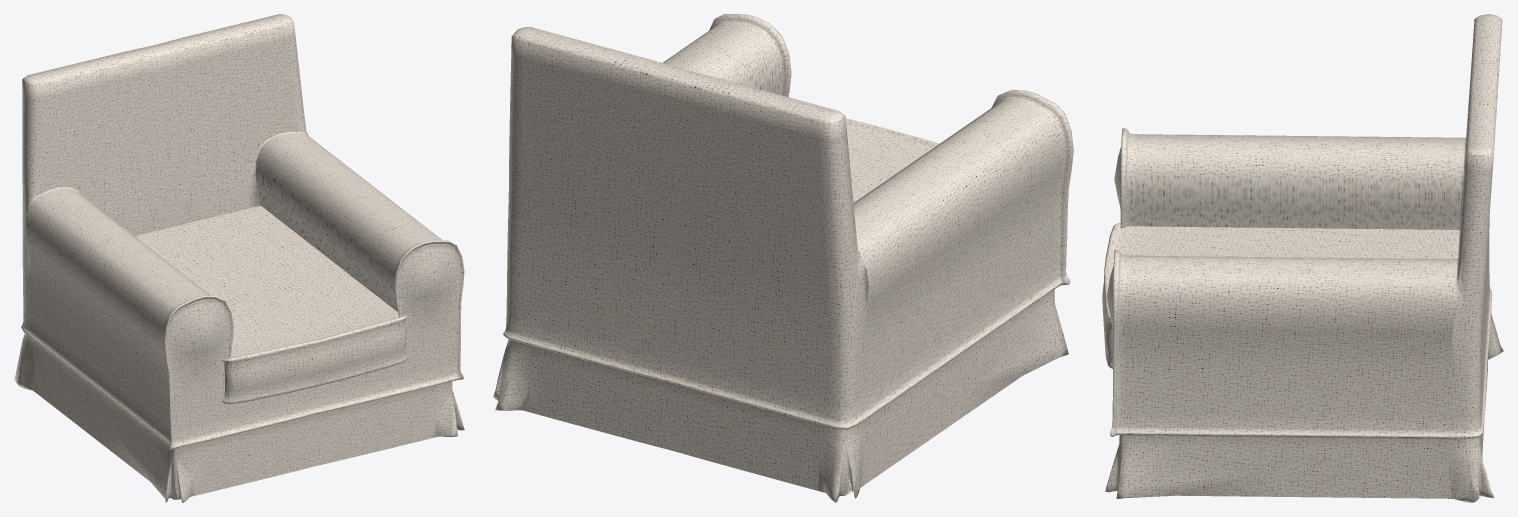
The model's file is IKEA-Ektorp_Armchair_Vallsta-3D.FBX.
The picture shows the model from 3 angles, left to right: view 1: azimuth 30°, elevation 25°; view 2: azimuth 150°, elevation 25°; view 3: azimuth 270°, elevation 25°; orthographic projection. The views are drawn at different scales.
Parts seen in each view (by area): view 1: Cylinder04; view 2: Cylinder04; view 3: Cylinder04.
Boxes of the visible parts, x1,y1,x2,y2 form: Cylinder04: (14, 14, 464, 502); Cylinder04: (493, 14, 1073, 502); Cylinder04: (1102, 14, 1503, 502).
Size of the model in its own units: 0.8556 by 0.8704 by 0.8336.
2 materials, 1 textured.
